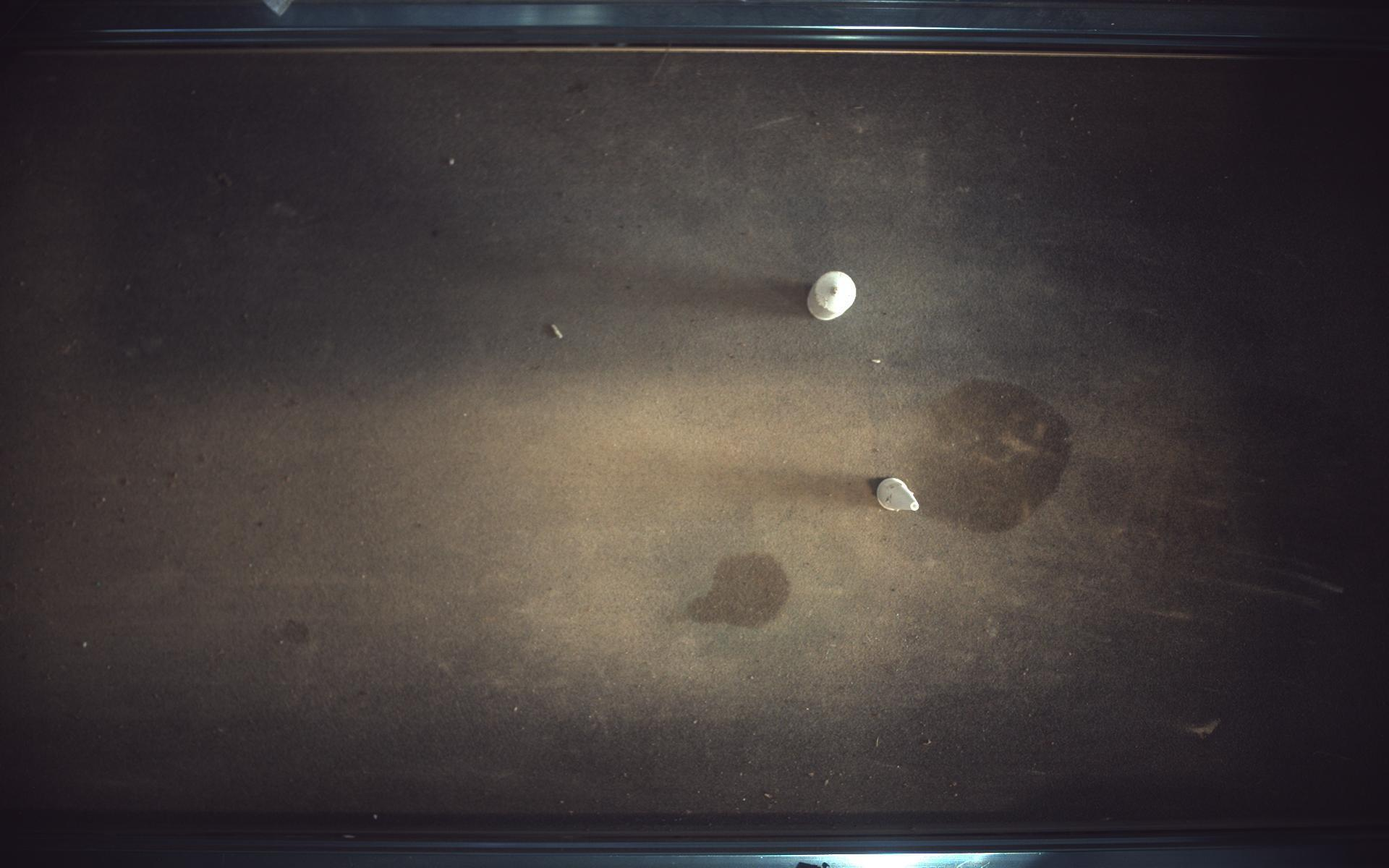plastic: (809, 271, 859, 320), (878, 478, 922, 512)
